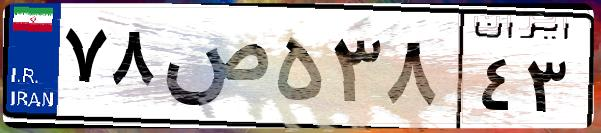3: (330, 28, 385, 110), (525, 38, 570, 115)
4: (475, 38, 525, 113)
5: (270, 28, 330, 110)
7: (57, 26, 110, 100)
8: (385, 28, 445, 110), (110, 28, 158, 98)
ص: (158, 20, 270, 120)
